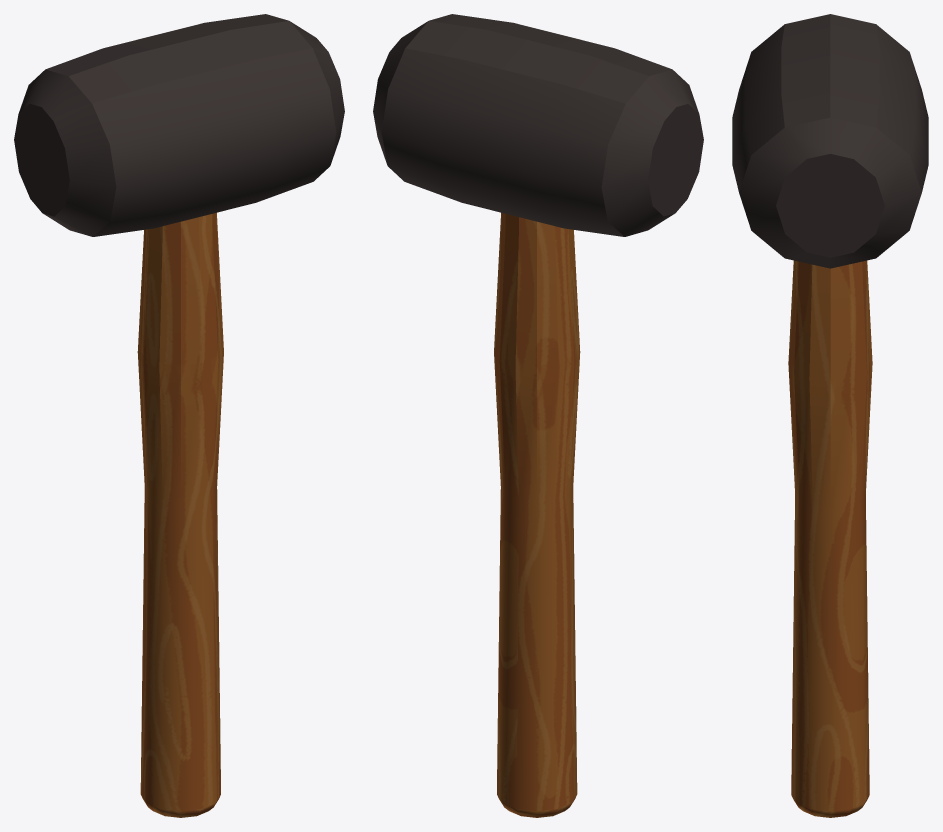
Rendered from mallet_1.fbx.
3 views of the same model, side by side, from view 1: azimuth 30°, elevation 25°; view 2: azimuth 150°, elevation 25°; view 3: azimuth 270°, elevation 25° (orthographic). The views are drawn at different scales.
Visible parts, largest first — view 1: mallet_1; view 2: mallet_1; view 3: mallet_1.
Part boxes in pixels (<box>): mallet_1: <box>14,14,344,817</box>; mallet_1: <box>373,14,703,817</box>; mallet_1: <box>732,14,928,817</box>.
Bounding box in the file's own units: 8.79 × 23.23 × 5.55.
